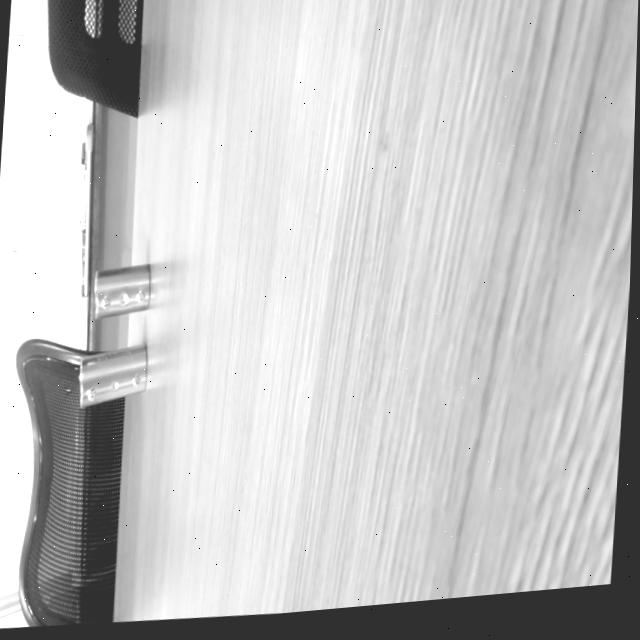Co_Lon: (69, 341, 156, 407)
Co_Nho: (88, 262, 156, 318)
